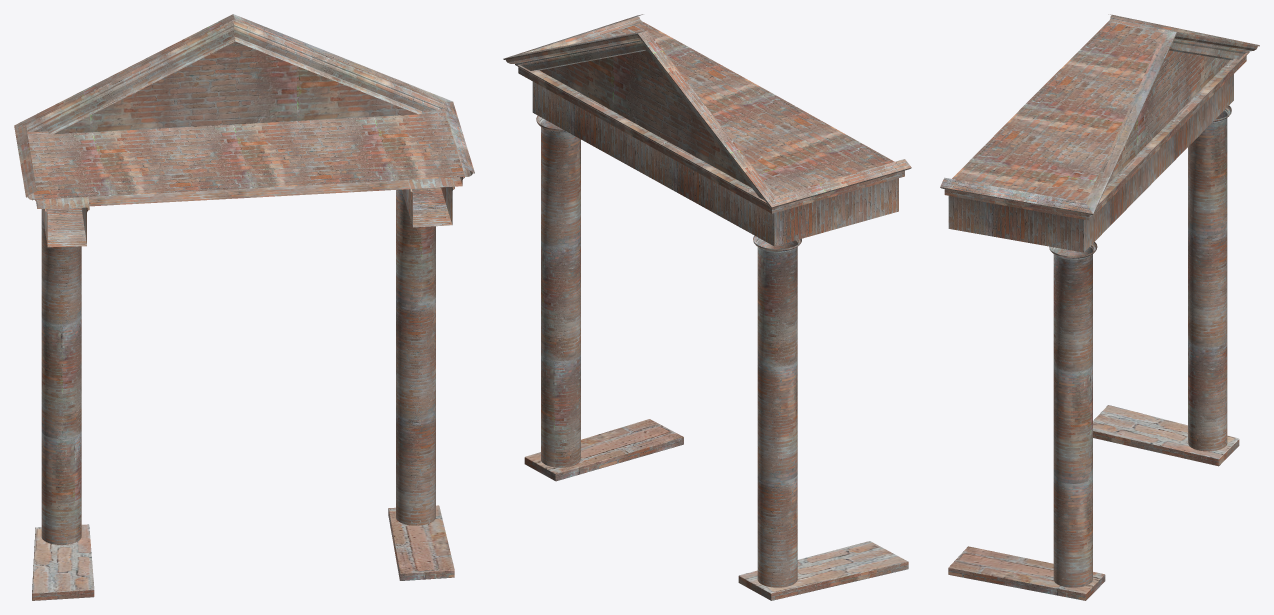
File: entree.glb
The picture shows the model from 3 angles, left to right: view 1: azimuth 30°, elevation 25°; view 2: azimuth 150°, elevation 25°; view 3: azimuth 270°, elevation 25°; orthographic projection. The views are drawn at different scales.
Parts seen in each view (by area): view 1: 01.RESTIT.corniche, 01.RESTIT.fronton.001, 01.RESTIT.colonne.fut.001, 01.RESTIT.colonne.fut, RdC.RESTIT.004, 01.RESTIT.architrave_parcours; view 2: 01.RESTIT.corniche, 01.RESTIT.fronton.001, 01.RESTIT.colonne.fut, 01.RESTIT.colonne.fut.001, 01.RESTIT.architrave_parcours, RdC.RESTIT.004; view 3: 01.RESTIT.corniche, 01.RESTIT.colonne.fut.001, 01.RESTIT.colonne.fut, 01.RESTIT.fronton.001, 01.RESTIT.architrave_parcours, RdC.RESTIT.004.
Part boxes in pixels (x1=…): 01.RESTIT.corniche: x1=27, y1=108, x2=464, y2=208; 01.RESTIT.fronton.001: x1=14, y1=14, x2=474, y2=200; 01.RESTIT.colonne.fut.001: x1=396, y1=189, x2=435, y2=525; 01.RESTIT.colonne.fut: x1=41, y1=209, x2=81, y2=544; RdC.RESTIT.004: x1=32, y1=505, x2=454, y2=600; 01.RESTIT.architrave_parcours: x1=42, y1=177, x2=454, y2=247; 01.RESTIT.corniche: x1=515, y1=22, x2=904, y2=213; 01.RESTIT.fronton.001: x1=503, y1=14, x2=911, y2=208; 01.RESTIT.colonne.fut: x1=753, y1=235, x2=801, y2=587; 01.RESTIT.colonne.fut.001: x1=536, y1=116, x2=580, y2=467; 01.RESTIT.architrave_parcours: x1=532, y1=81, x2=898, y2=246; RdC.RESTIT.004: x1=524, y1=419, x2=908, y2=600; 01.RESTIT.corniche: x1=944, y1=21, x2=1249, y2=220; 01.RESTIT.colonne.fut.001: x1=1049, y1=242, x2=1097, y2=587; 01.RESTIT.colonne.fut: x1=1188, y1=105, x2=1231, y2=451; 01.RESTIT.fronton.001: x1=940, y1=14, x2=1259, y2=215; 01.RESTIT.architrave_parcours: x1=948, y1=74, x2=1233, y2=252; RdC.RESTIT.004: x1=948, y1=405, x2=1239, y2=600.
Size of the model in its own units: 3.98 by 4.59 by 2.7.
Materials: 1 (1 with a texture image).
